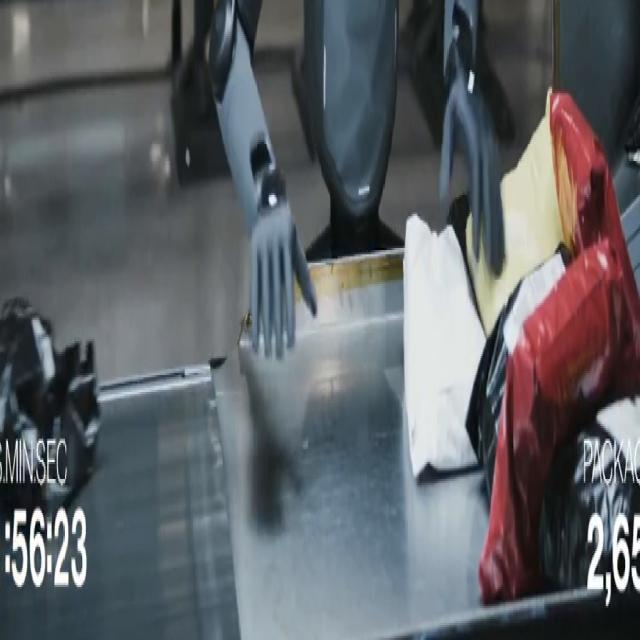package: (480, 240, 638, 601), (466, 246, 571, 495), (550, 94, 639, 362), (466, 94, 562, 334), (404, 215, 485, 476), (0, 299, 99, 512), (539, 399, 639, 589), (447, 193, 479, 317)
